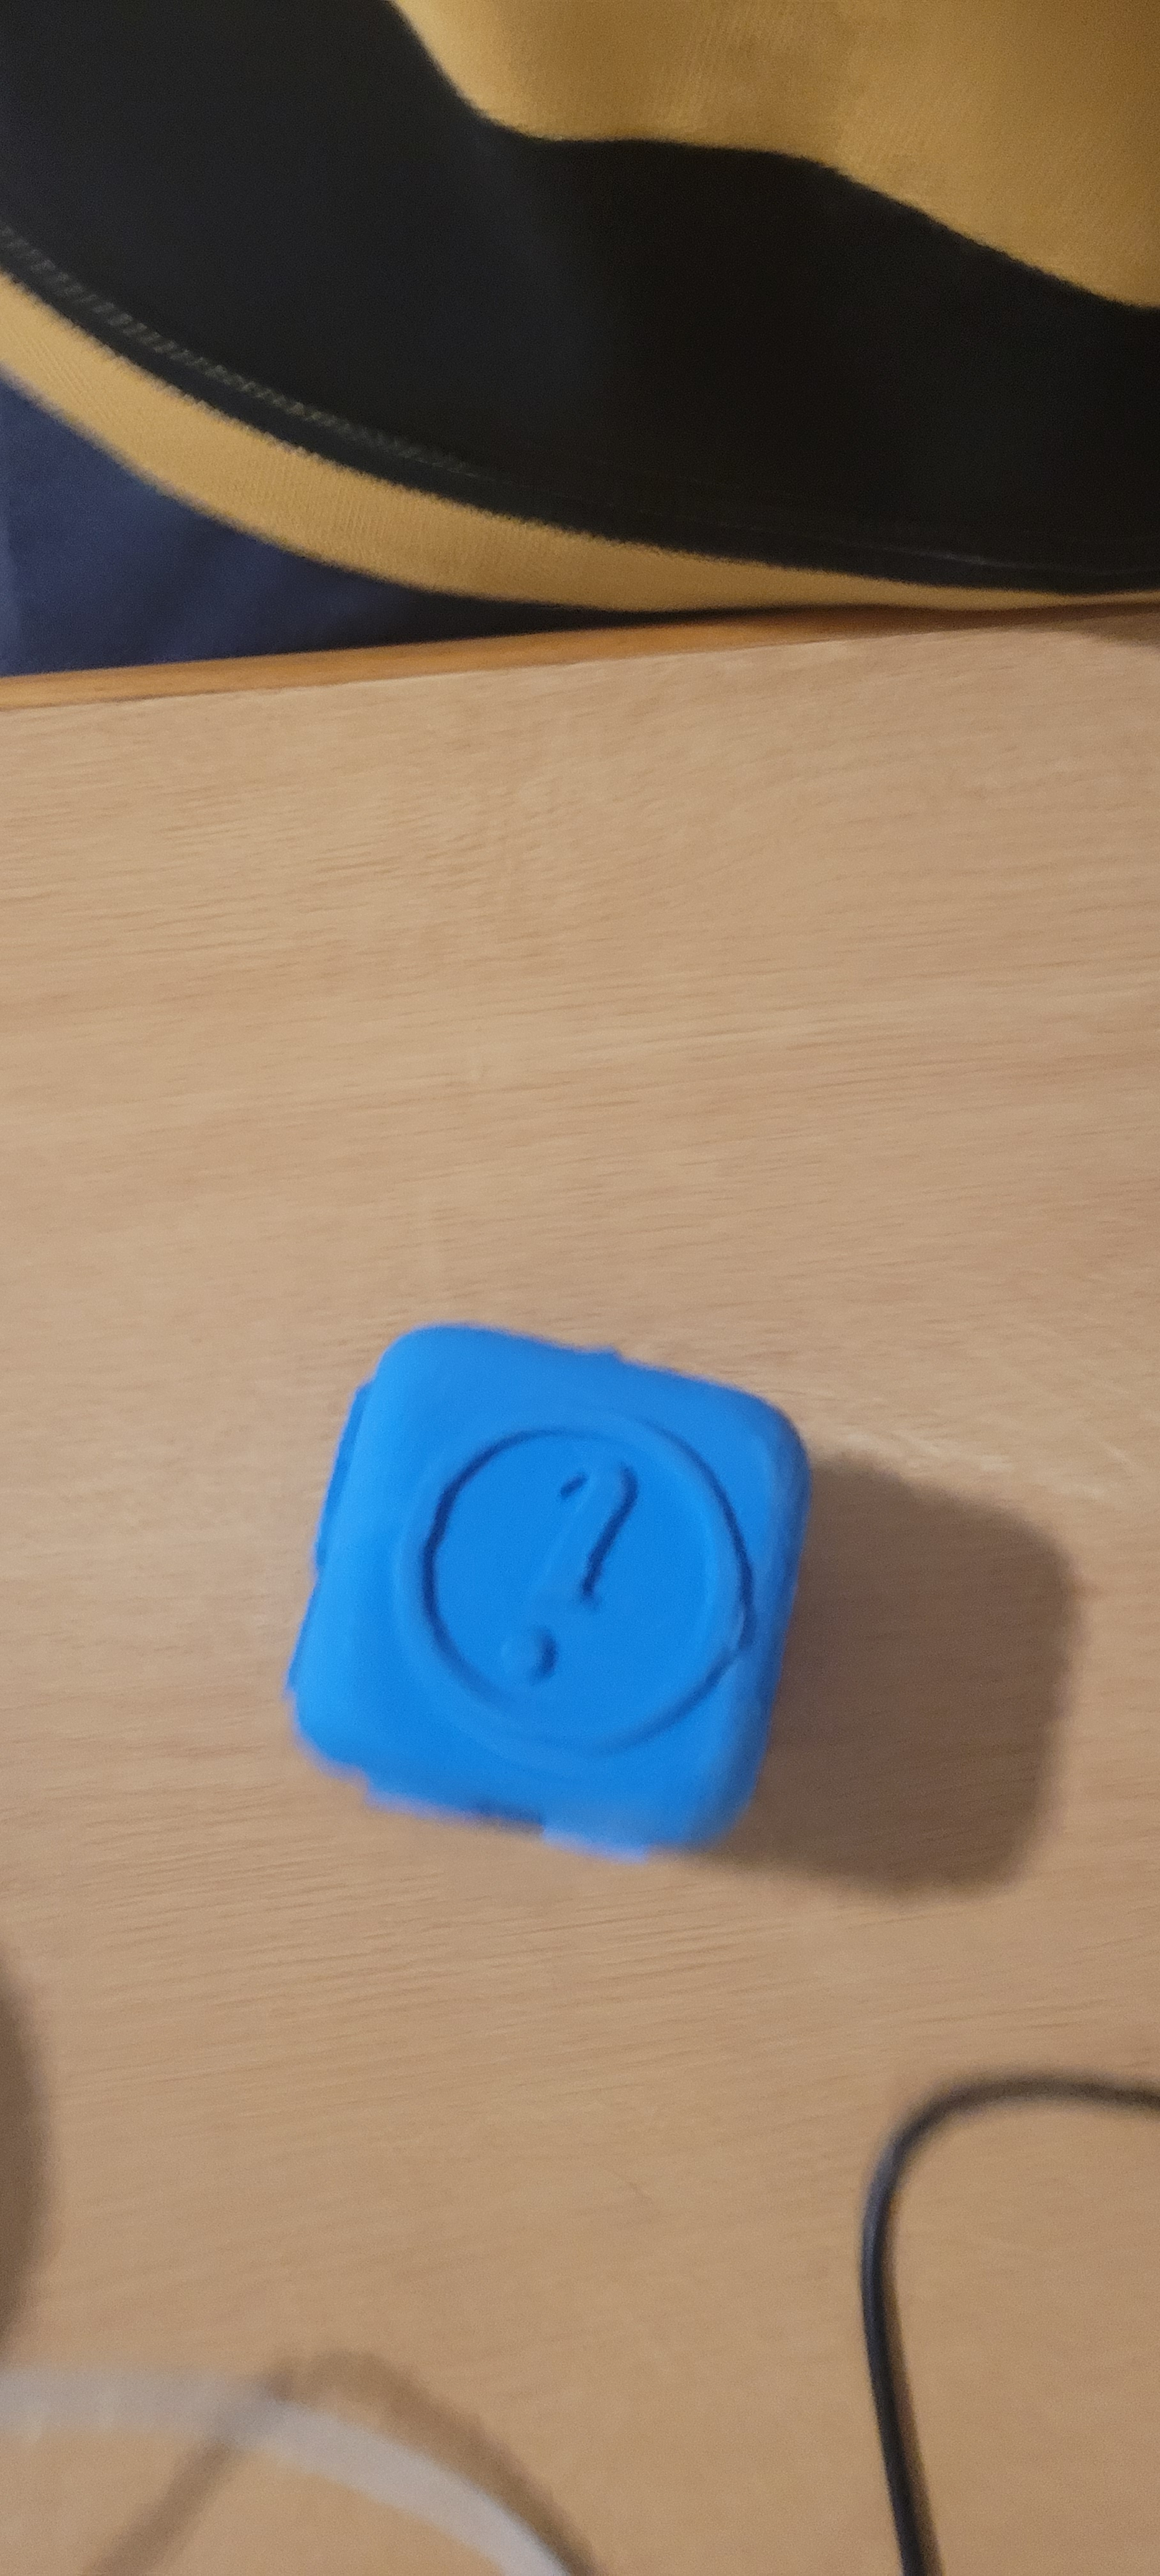Info: (393, 1365, 761, 1784)
